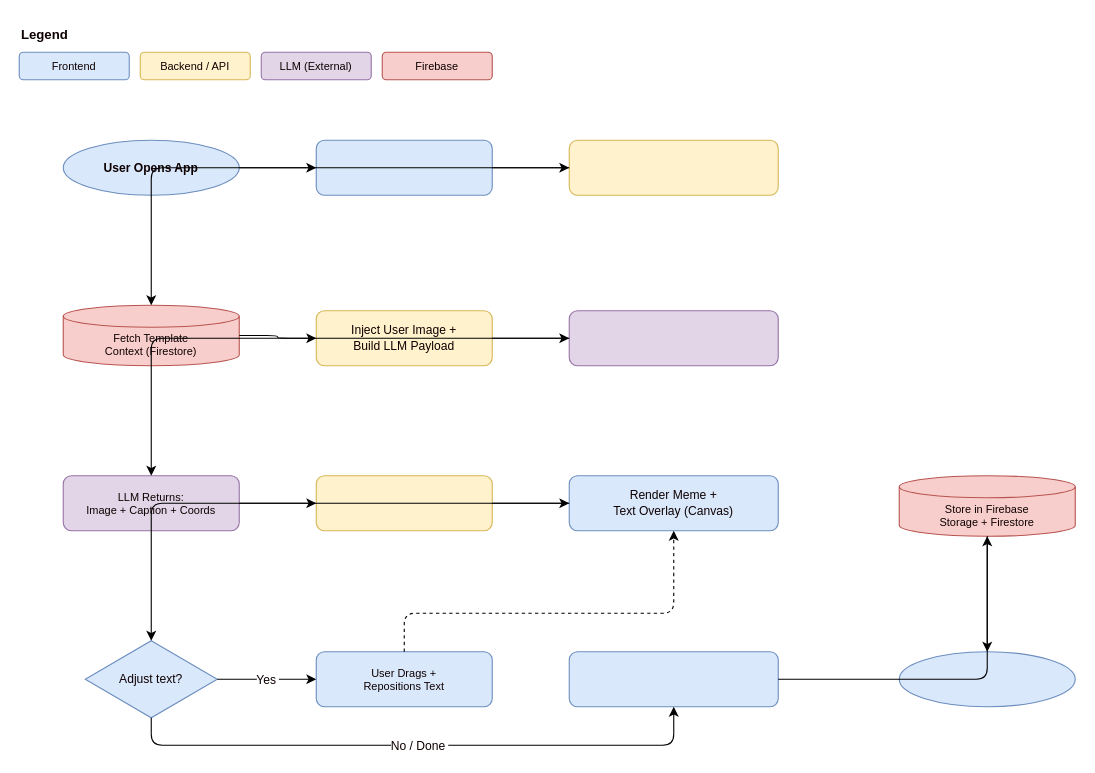
Image size: 1095x773. Some labels were removed from this diagram. Here are the shapes that lost their labels. From the top down, the centre of each, then its label:
At pixel 403 167: "Upload Photo + Select Template".
At pixel 673 167: "POST /api/generate/meme { templateId, userImage }".
At pixel 673 338: "Send to LLM (Gemini / GPT-4o)".
At pixel 403 503: "Backend Returns { image, text, placement }".
At pixel 673 679: "Save Meme".
At pixel 986 679: "Return Shareable Link".
